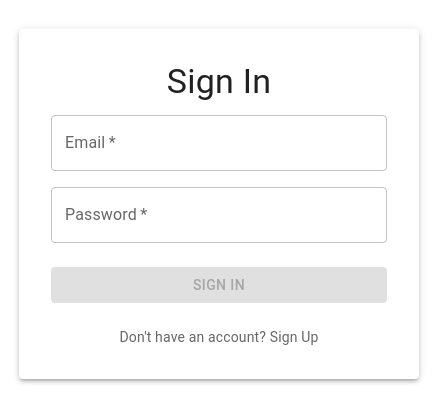
Test: LoginForm › should show email error when email is invalid
This screenshot has width=439, height=413.
Type "invalid-email" into the field labelled "Email *". click: (219, 143)
box: [51,115,387,171]
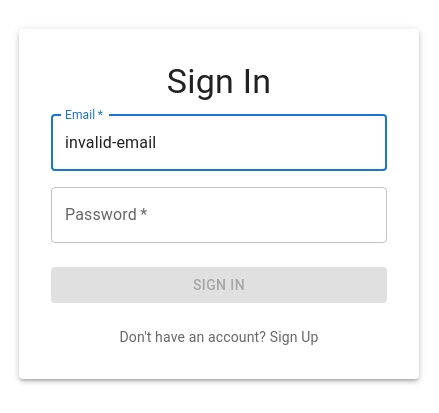
Press Tab
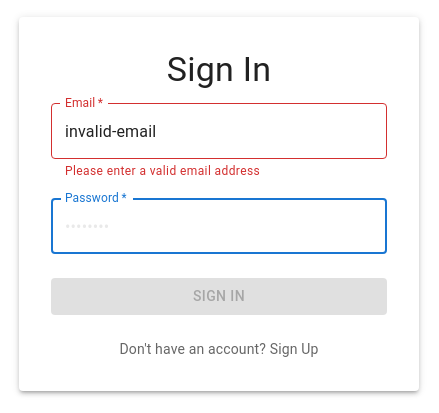
Result: the text "Please enter a valid email address" is shown at [65,164,260,178]
